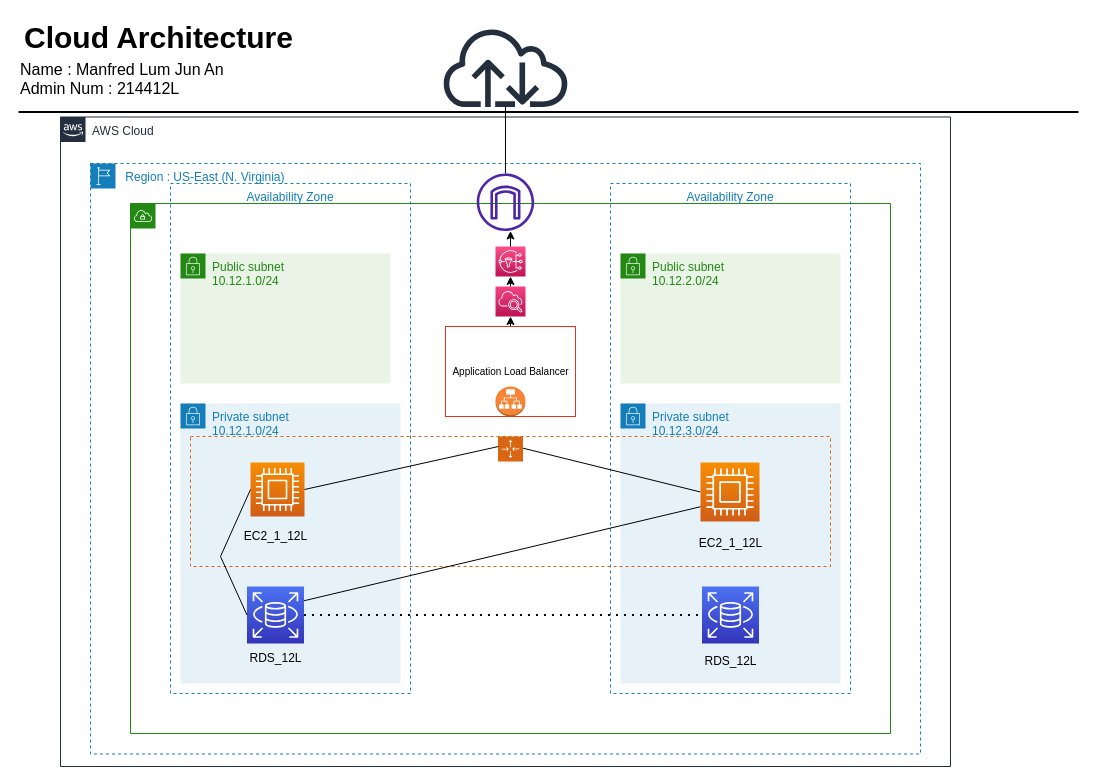
Image size: 1096x784. Some labels were removed from this diagram. Here are the shapes that lost their labels. From the top down, the box of each, then its label:
(444, 326, 576, 416): Security group webgrpsec
(130, 202, 890, 734): VPC_12L : 10.12.0.0/16
(190, 436, 830, 566): Auto Scaling group
